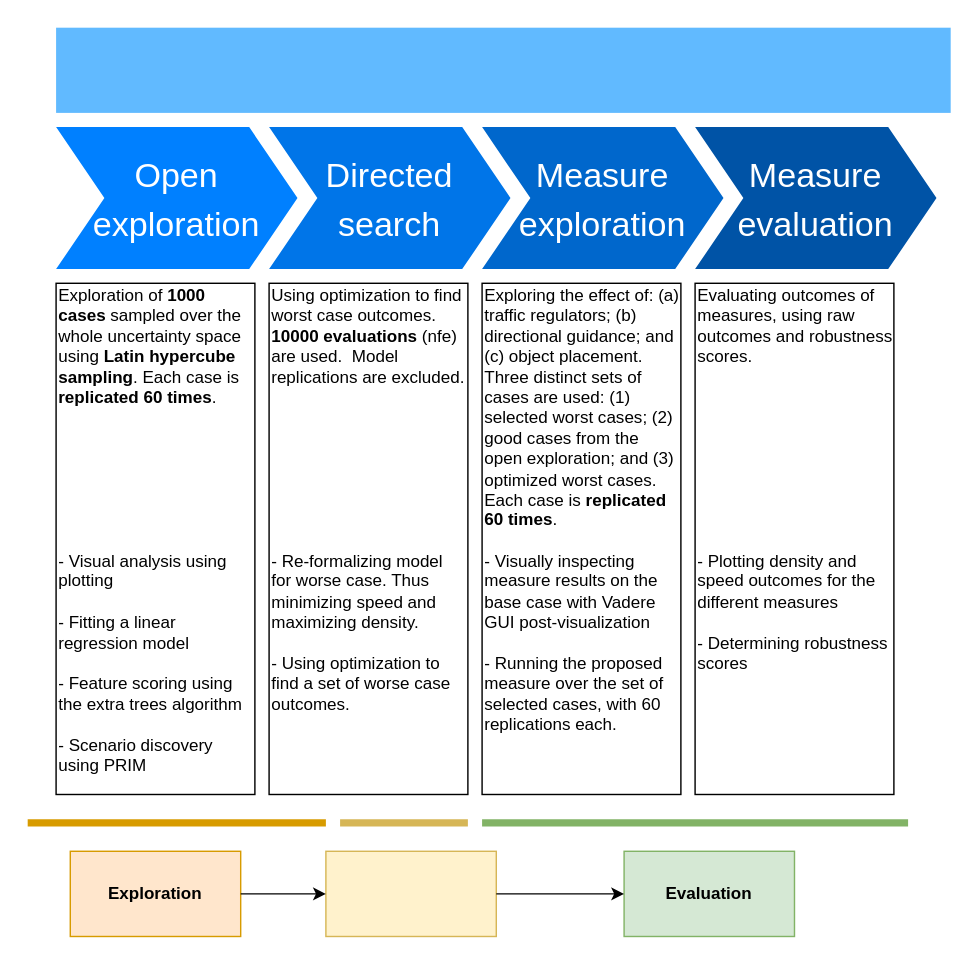
Some shapes in this 976 by 961 pixel diagram are drawn without their labels. Each missing label, with the centre of its shape:
"Experimental setup" goes at [502,69].
"Selection" goes at [410,893].
